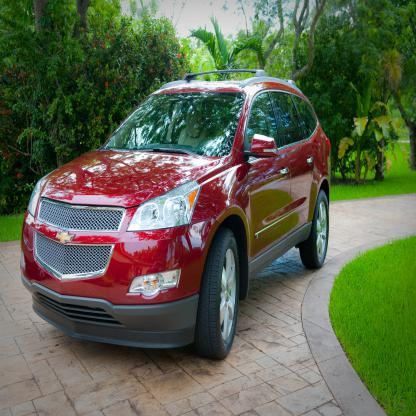Vehicle: (19, 71, 331, 362)
